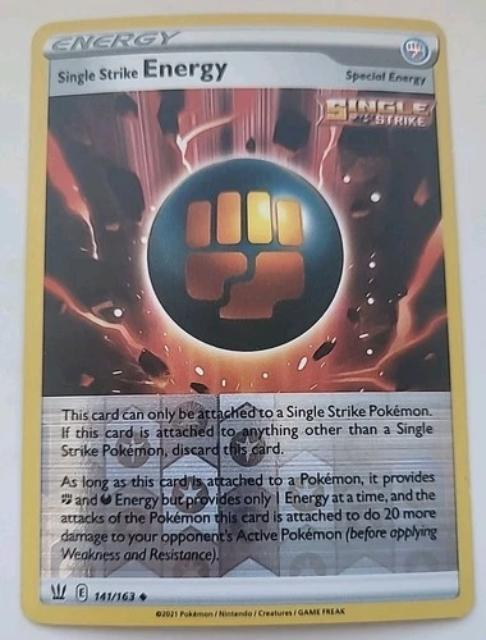Card: (12, 8, 477, 632)
Name: (48, 52, 240, 91)
